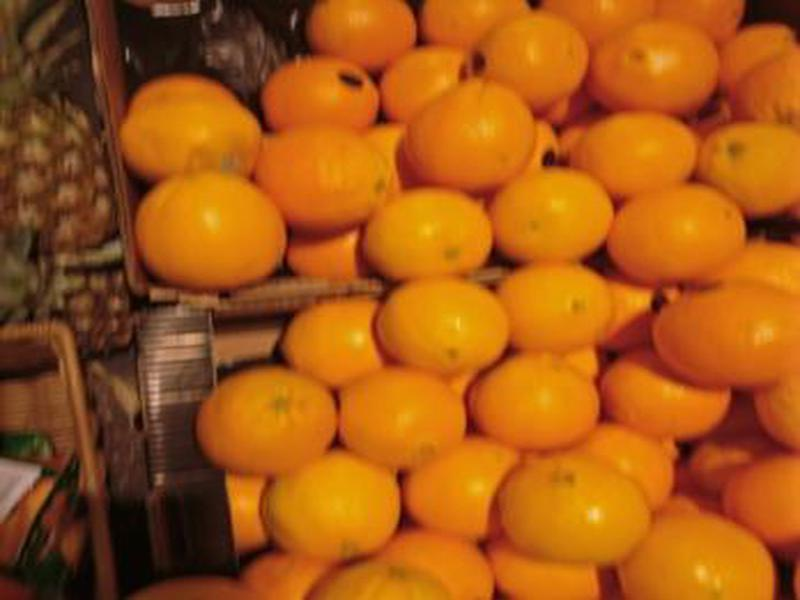orange: (492, 444, 664, 571), (126, 167, 294, 293), (236, 120, 407, 236), (116, 67, 266, 197), (603, 502, 794, 600), (182, 354, 333, 467), (648, 266, 800, 378), (603, 185, 760, 287), (332, 357, 470, 473), (586, 15, 739, 118), (259, 449, 400, 560), (457, 345, 605, 449), (375, 277, 521, 380), (396, 433, 528, 542), (467, 5, 598, 107), (560, 103, 703, 196), (412, 90, 543, 190), (481, 249, 603, 354), (491, 159, 621, 256), (367, 185, 496, 275), (260, 48, 382, 140), (606, 340, 716, 442), (275, 294, 398, 385), (696, 116, 800, 217), (288, 1, 423, 66), (716, 36, 800, 132), (275, 560, 444, 600), (742, 374, 800, 433)
